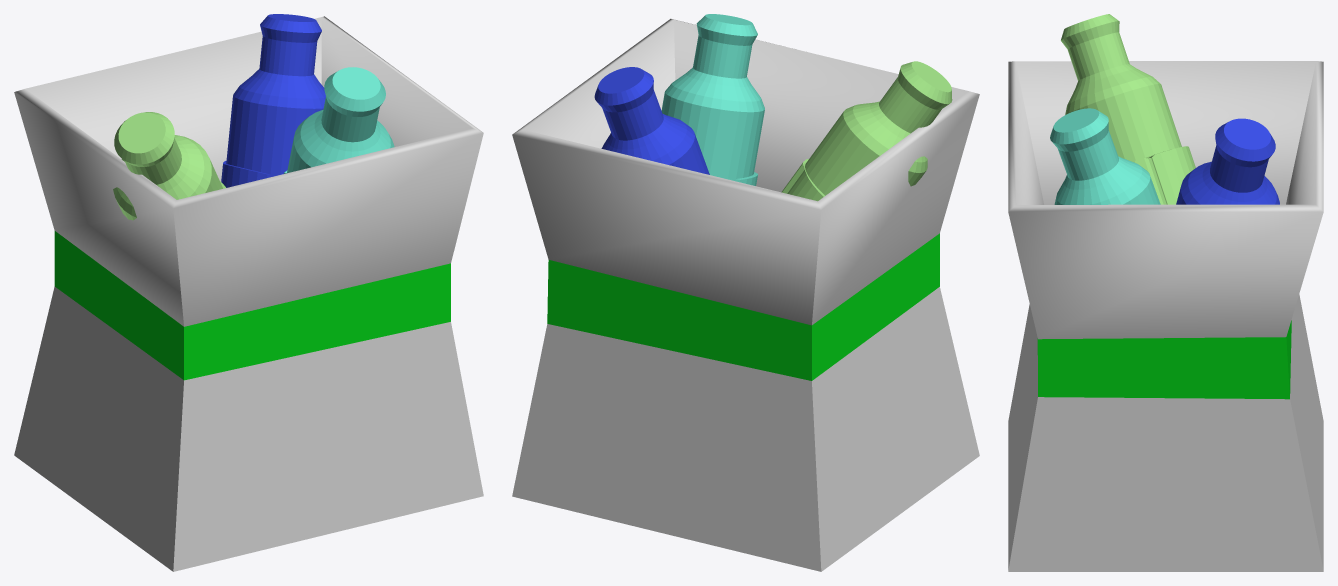
File: BasuraReciclaje.fbx
The picture shows the model from 3 angles, left to right: view 1: azimuth 30°, elevation 25°; view 2: azimuth 150°, elevation 25°; view 3: azimuth 270°, elevation 25°; orthographic projection.
Visible parts, largest first — view 1: Cubo.001, Cilindro.005, Cilindro.002, Cilindro.004; view 2: Cubo.001, Cilindro.002, Cilindro.004, Cilindro.005; view 3: Cubo.001, Cilindro.004, Cilindro.002, Cilindro.005.
Boxes of the visible parts, bbox=[...] form: Cubo.001: bbox=[14, 16, 483, 571]; Cilindro.005: bbox=[221, 14, 325, 187]; Cilindro.002: bbox=[284, 67, 394, 173]; Cilindro.004: bbox=[113, 112, 225, 220]; Cubo.001: bbox=[512, 18, 979, 571]; Cilindro.002: bbox=[661, 14, 764, 185]; Cilindro.004: bbox=[781, 61, 952, 201]; Cilindro.005: bbox=[594, 67, 709, 174]; Cubo.001: bbox=[1008, 61, 1323, 571]; Cilindro.004: bbox=[1061, 14, 1195, 204]; Cilindro.002: bbox=[1050, 108, 1160, 204]; Cilindro.005: bbox=[1176, 118, 1279, 204].
Bounding box in the file's own units: 31.39 × 39.12 × 26.87.
